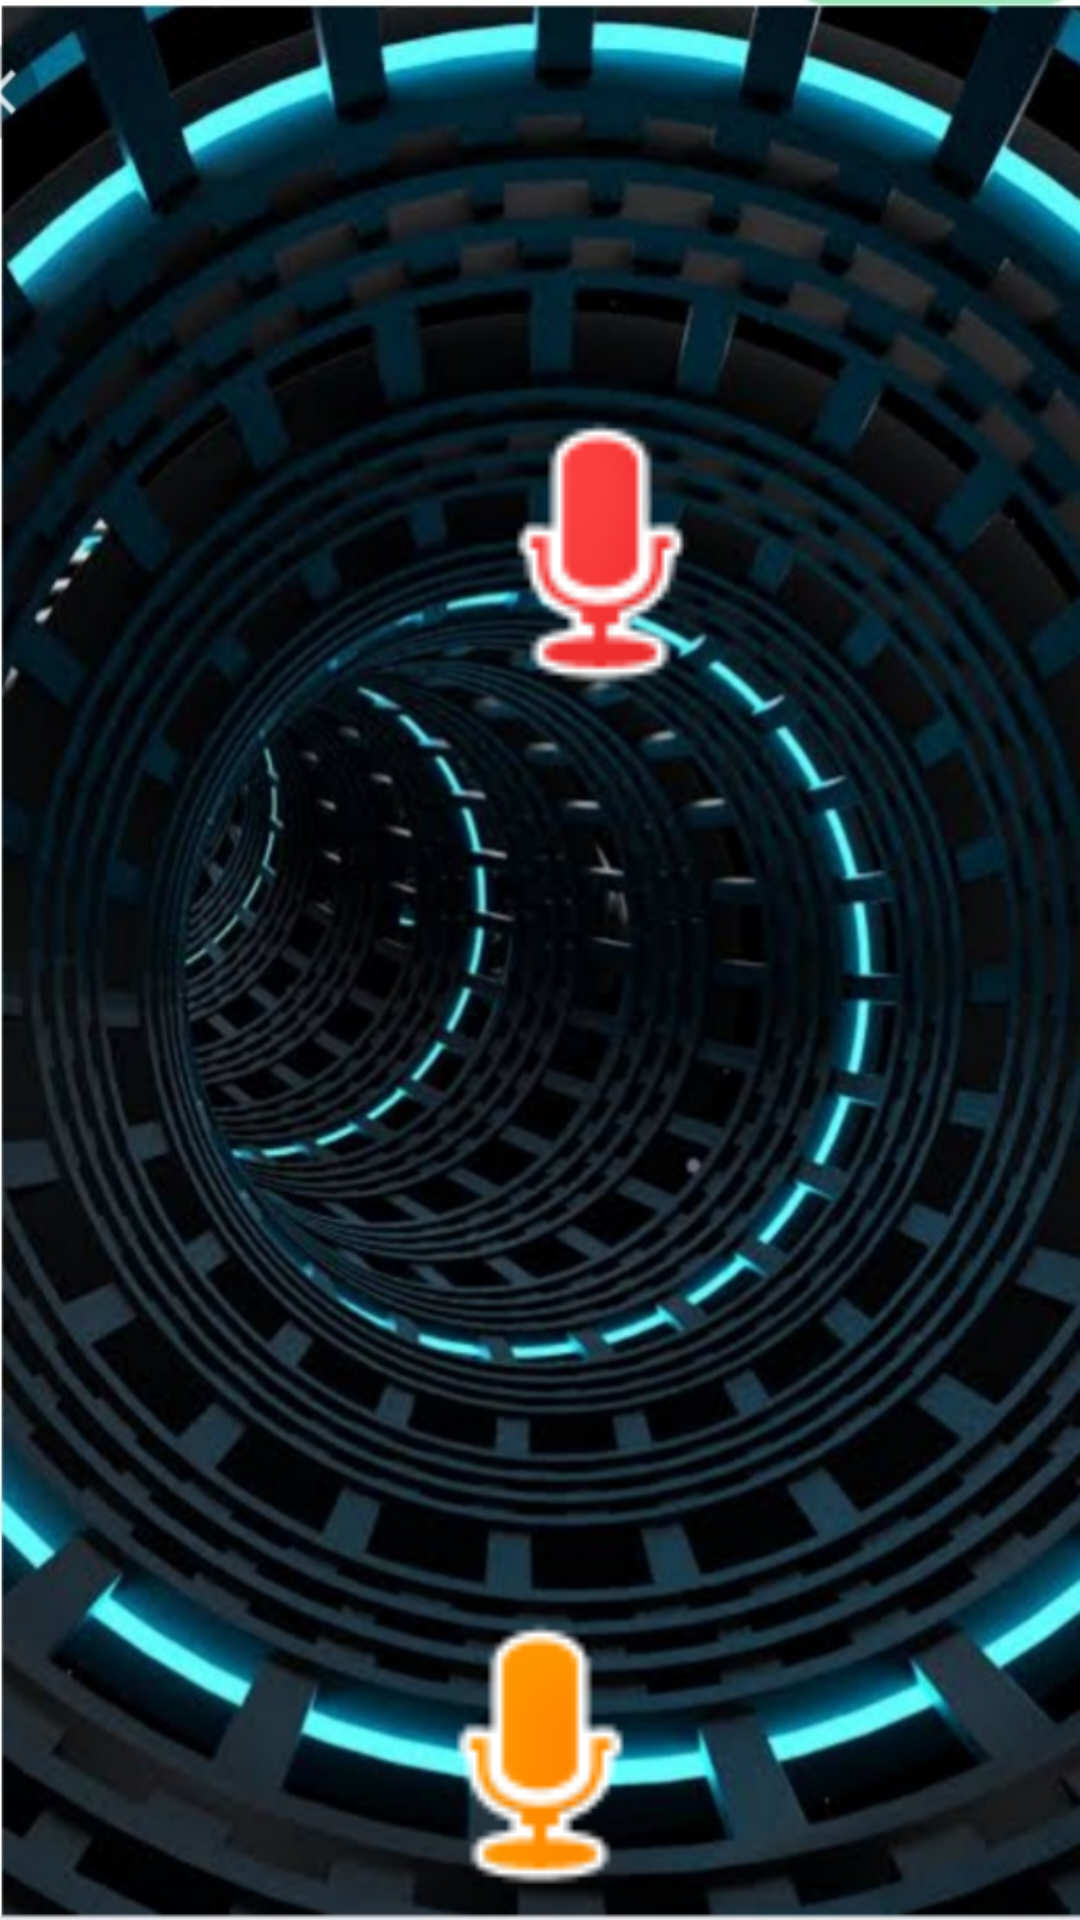

Named icons in this screenshot (1080px×1920px) and their centers, (x=x, y=y):
presence audio away: (x=540, y=1755)
presence audio busy: (x=600, y=555)
